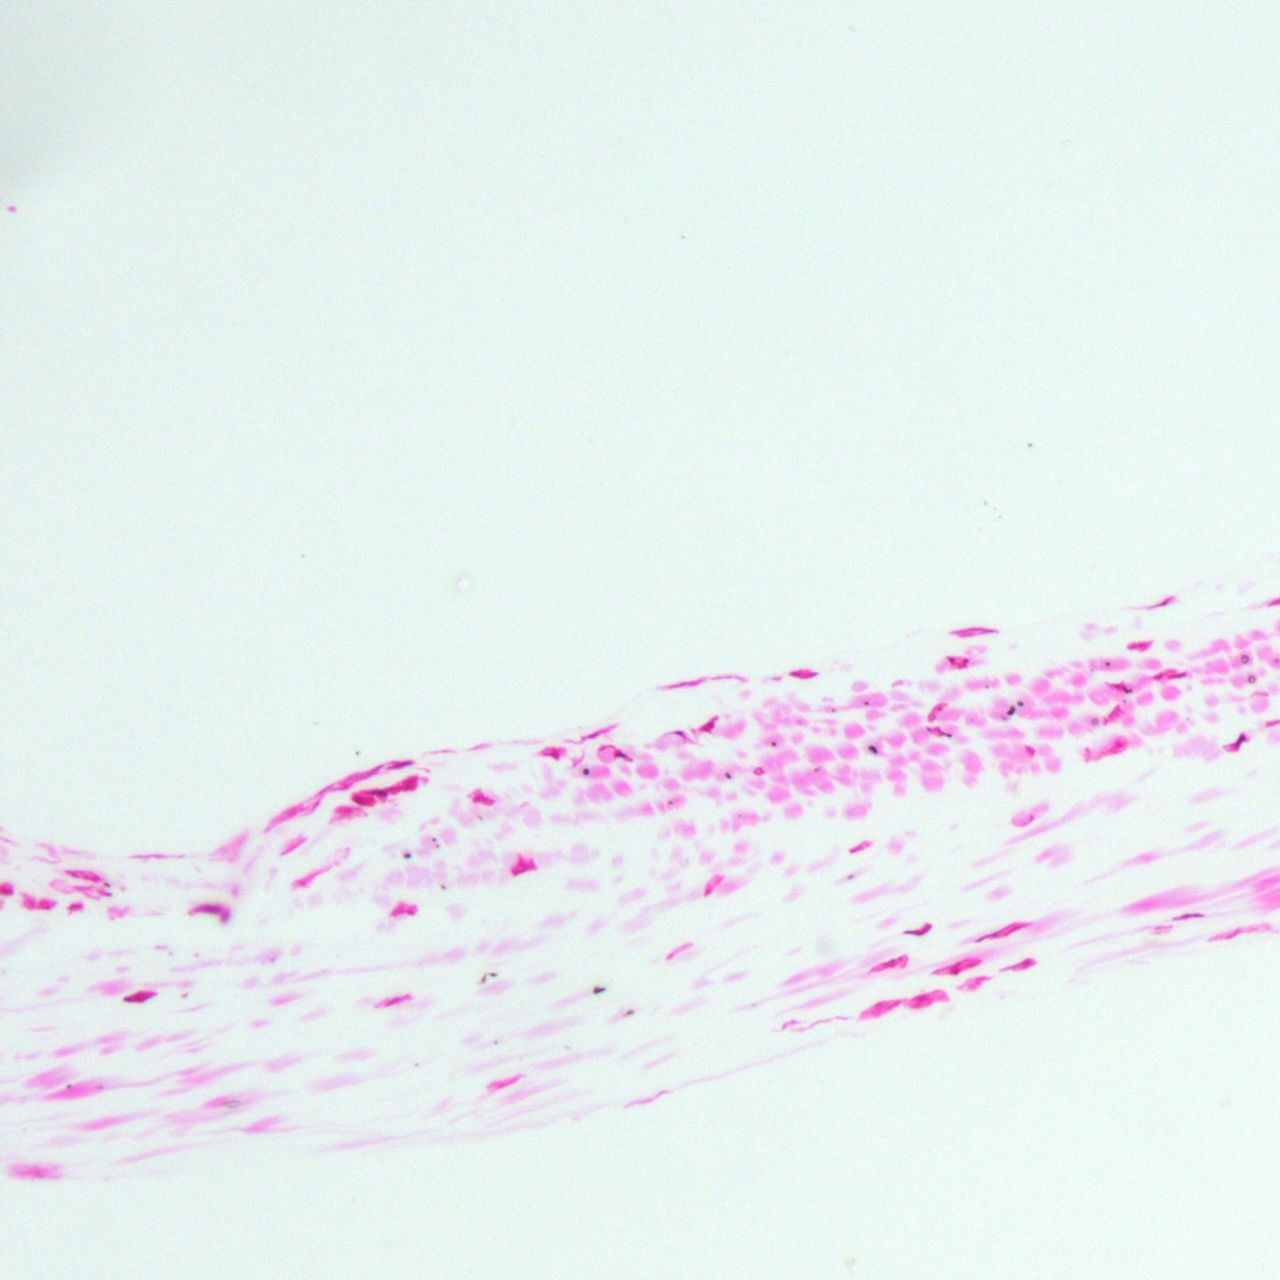dust: (1006, 704, 1016, 717), (622, 1008, 634, 1017), (593, 986, 607, 993), (1239, 654, 1250, 663), (1247, 675, 1257, 685), (869, 745, 877, 756), (479, 974, 486, 983), (489, 971, 497, 978), (476, 813, 484, 821), (103, 881, 113, 887), (583, 768, 590, 775), (724, 771, 731, 778), (403, 852, 411, 858), (179, 993, 189, 998), (1124, 688, 1133, 693), (1091, 719, 1098, 724), (102, 892, 113, 896), (193, 951, 199, 956), (985, 685, 990, 690), (166, 951, 173, 955), (268, 958, 275, 962), (493, 1039, 498, 1046), (771, 740, 776, 747), (1017, 701, 1024, 706), (66, 1083, 72, 1088), (440, 884, 445, 888), (668, 799, 673, 805), (830, 708, 836, 713), (1123, 699, 1128, 704), (1274, 658, 1279, 663), (564, 1046, 571, 1049), (414, 1062, 418, 1067), (435, 843, 440, 847), (1027, 442, 1032, 447), (998, 515, 1002, 519), (863, 701, 869, 704), (947, 733, 951, 738), (846, 874, 852, 878), (98, 1085, 103, 1089), (431, 837, 436, 840), (813, 768, 817, 772), (1107, 661, 1110, 665), (983, 501, 987, 504), (355, 750, 359, 754), (992, 508, 996, 510), (300, 554, 304, 557), (753, 1003, 755, 1006), (1090, 668, 1092, 670)
nucleus-FG: (975, 925, 1012, 942), (663, 940, 692, 960), (903, 922, 933, 940), (948, 960, 980, 976), (580, 726, 613, 741), (279, 838, 307, 856), (663, 678, 704, 689), (933, 959, 967, 973), (497, 1074, 520, 1090), (1002, 922, 1029, 937), (1150, 595, 1175, 611), (1103, 704, 1121, 726), (384, 993, 410, 1006), (926, 702, 942, 722), (124, 993, 155, 1003), (1015, 955, 1035, 971), (387, 760, 413, 770), (883, 956, 903, 969), (195, 904, 220, 913), (1108, 738, 1123, 754), (316, 782, 334, 795), (334, 782, 355, 792), (366, 764, 384, 776), (512, 865, 531, 877), (949, 627, 996, 632), (352, 795, 370, 805), (701, 720, 715, 734), (63, 869, 81, 879), (849, 843, 864, 855), (886, 999, 901, 1010), (392, 908, 415, 915), (42, 901, 57, 912), (309, 798, 320, 813), (1227, 928, 1242, 939), (1172, 913, 1204, 918), (1167, 672, 1189, 679), (542, 751, 559, 760), (598, 743, 613, 753), (1128, 644, 1148, 651), (365, 789, 388, 795), (219, 911, 230, 924), (1234, 734, 1245, 747), (402, 775, 418, 783), (612, 750, 628, 758), (1110, 682, 1126, 690), (0, 886, 14, 896), (83, 874, 100, 881), (295, 879, 309, 887), (801, 672, 817, 679), (67, 903, 81, 910), (932, 726, 942, 735), (1026, 745, 1035, 756), (396, 787, 416, 791), (753, 767, 765, 774), (911, 995, 927, 1000), (472, 795, 484, 801), (956, 633, 975, 636), (790, 670, 799, 676), (945, 658, 954, 663), (956, 663, 967, 668), (674, 730, 685, 735), (703, 890, 712, 896), (873, 1001, 881, 1006), (1153, 674, 1160, 679)
